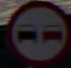No overtake: (7, 3, 66, 59)
